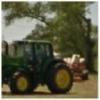tractors: (2, 39, 74, 96)
